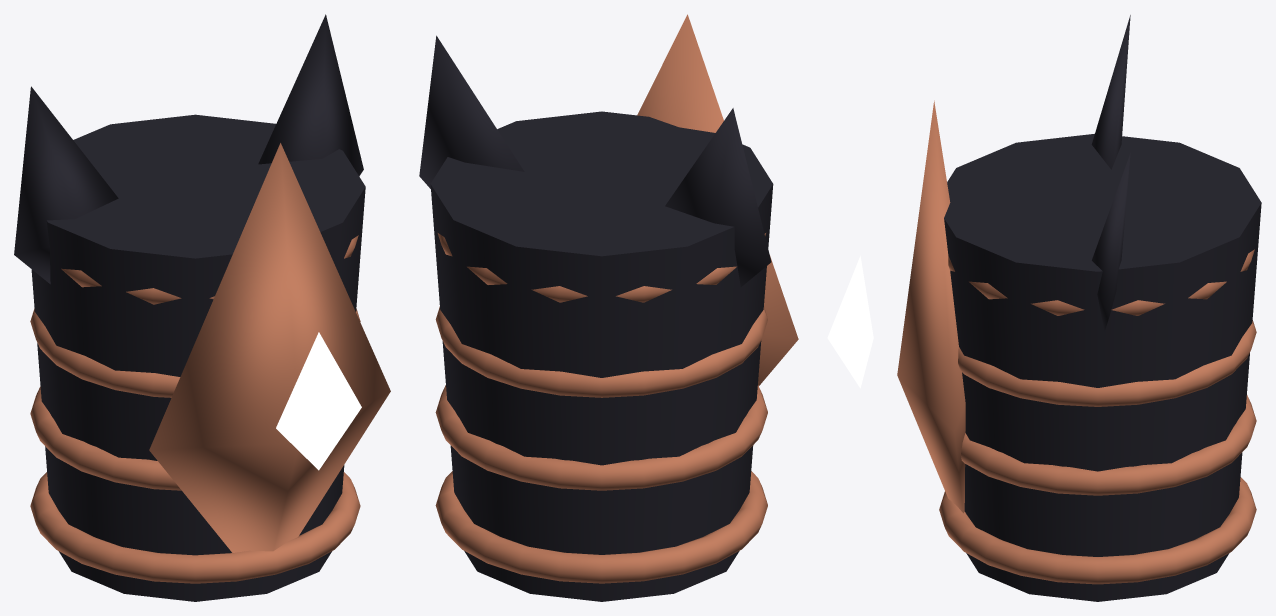
Rendered from boss_obsidian_oath_gloves_2.glb.
3 renders of one model, left to right at view 1: azimuth 30°, elevation 25°; view 2: azimuth 150°, elevation 25°; view 3: azimuth 270°, elevation 25°, orthographic. The views are drawn at different scales.
Parts seen in each view (by area): view 1: Boss_obsidian_oath_0, Boss_obsidian_oath_1, Boss_obsidian_oath_2; view 2: Boss_obsidian_oath_0, Boss_obsidian_oath_1; view 3: Boss_obsidian_oath_0, Boss_obsidian_oath_1, Boss_obsidian_oath_2.
Boxes of the visible parts, x1,y1,x2,y2 form: Boss_obsidian_oath_0: [14, 14, 365, 601]; Boss_obsidian_oath_1: [30, 143, 390, 583]; Boss_obsidian_oath_2: [276, 332, 361, 470]; Boss_obsidian_oath_0: [419, 35, 773, 601]; Boss_obsidian_oath_1: [435, 14, 798, 583]; Boss_obsidian_oath_0: [944, 15, 1261, 601]; Boss_obsidian_oath_1: [897, 100, 1256, 584]; Boss_obsidian_oath_2: [827, 255, 873, 388].
Size of the model in its own units: 0.2373 by 0.3105 by 0.2653.
